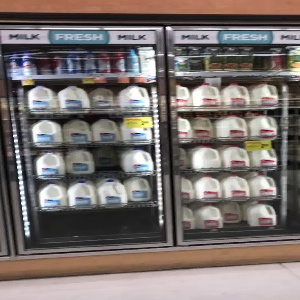void: (32, 208, 162, 245), (92, 148, 123, 175)
